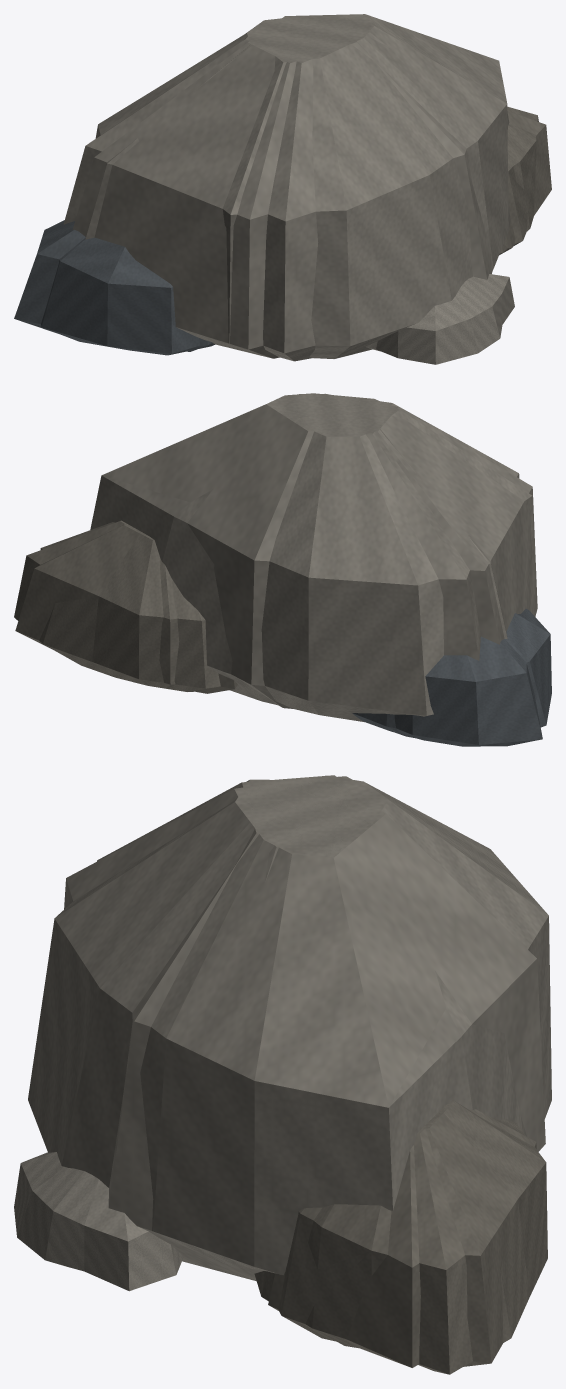
Rendered from StoneOutcrop.fbx.
The picture shows the model from 3 angles, top to bottom: view 1: azimuth 30°, elevation 25°; view 2: azimuth 150°, elevation 25°; view 3: azimuth 270°, elevation 25°; orthographic projection. The views are drawn at different scales.
Parts seen in each view (by area): view 1: StoneOutcropDetail0, StoneOutcropDetail2, StoneOutcropDetail1; view 2: StoneOutcropDetail0, StoneOutcropDetail2, StoneOutcropDetail1; view 3: StoneOutcropDetail0, StoneOutcropDetail2, StoneOutcropDetail1.
Boxes of the visible parts, x1=… form: StoneOutcropDetail0: x1=14, y1=14, x2=538, y2=364; StoneOutcropDetail2: x1=72, y1=14, x2=551, y2=358; StoneOutcropDetail1: x1=41, y1=14, x2=535, y2=361; StoneOutcropDetail0: x1=14, y1=393, x2=549, y2=746; StoneOutcropDetail2: x1=40, y1=393, x2=537, y2=708; StoneOutcropDetail1: x1=15, y1=394, x2=551, y2=737; StoneOutcropDetail0: x1=14, y1=775, x2=551, y2=1374; StoneOutcropDetail2: x1=97, y1=775, x2=545, y2=1367; StoneOutcropDetail1: x1=64, y1=776, x2=536, y2=1366.
Size of the model in its own units: 306 by 146 by 181.
1 material, 1 textured.
